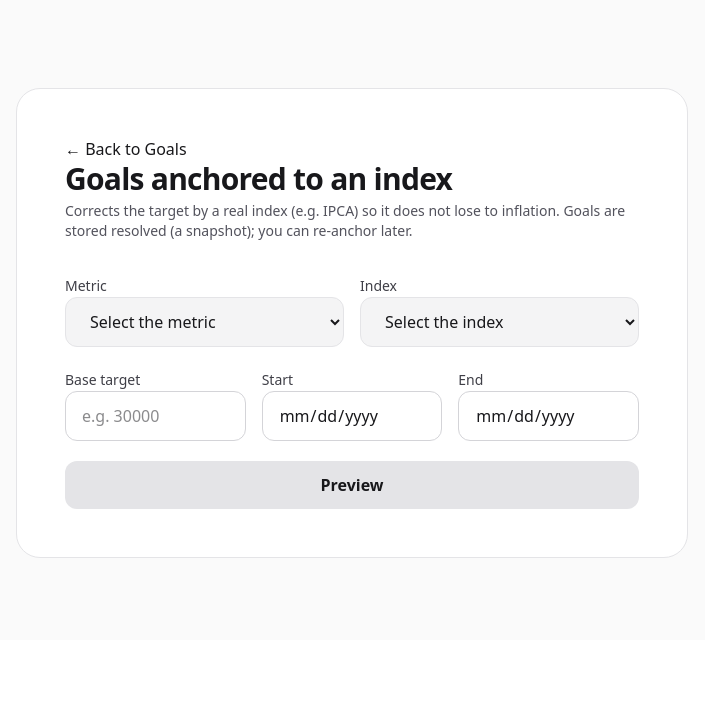
Test: ImportAnchored › confirma a importação ancorada
Select "Receita (daily)" in the dropdown named "metric_id" below "Metric": (204, 322) [65,297,344,347]
Select "IPCA (inflação)" in the 2nd dropdown named "index_code": (500, 322) [360,297,639,347]
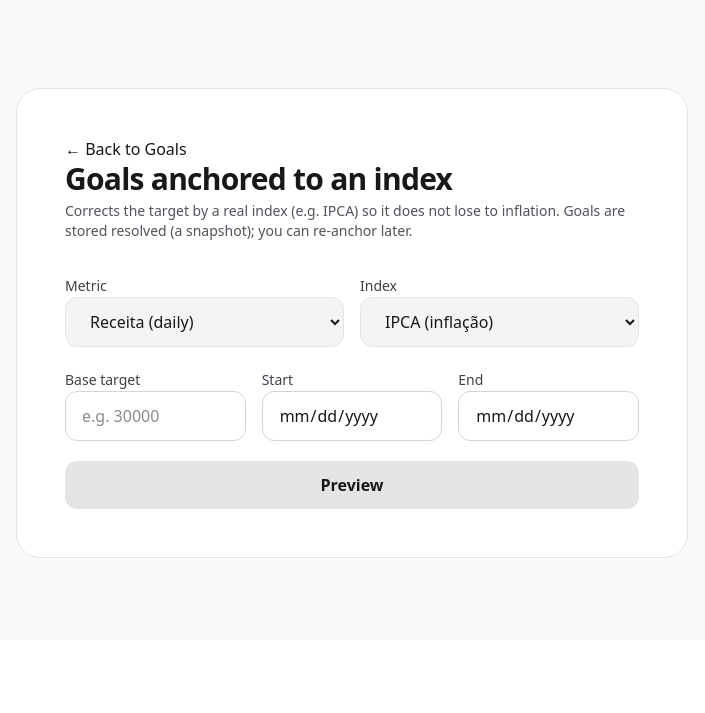
In the number field named "alvo_base": (155, 416) [65,391,246,441], type "100"
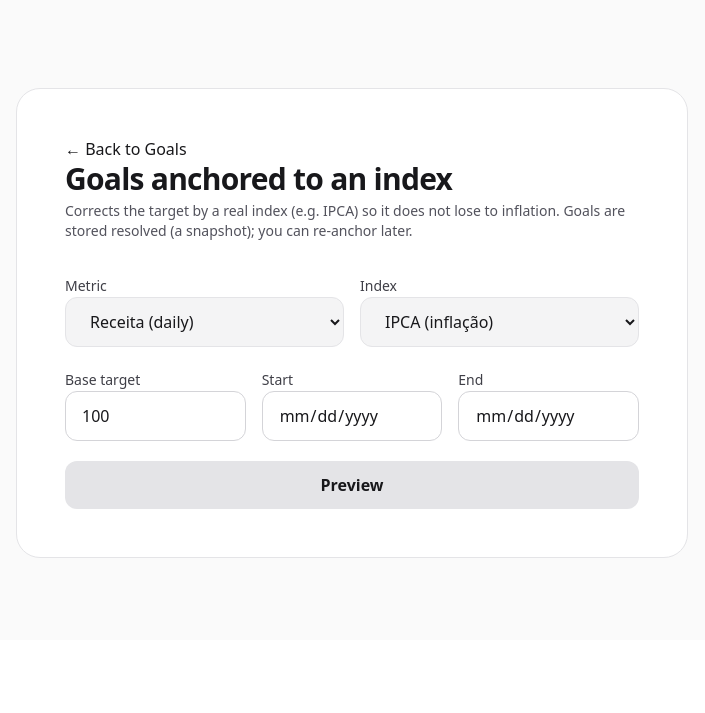
In the date field named "inicio" below "Start": (352, 416) [262,391,442,441], type "2026-01-01"
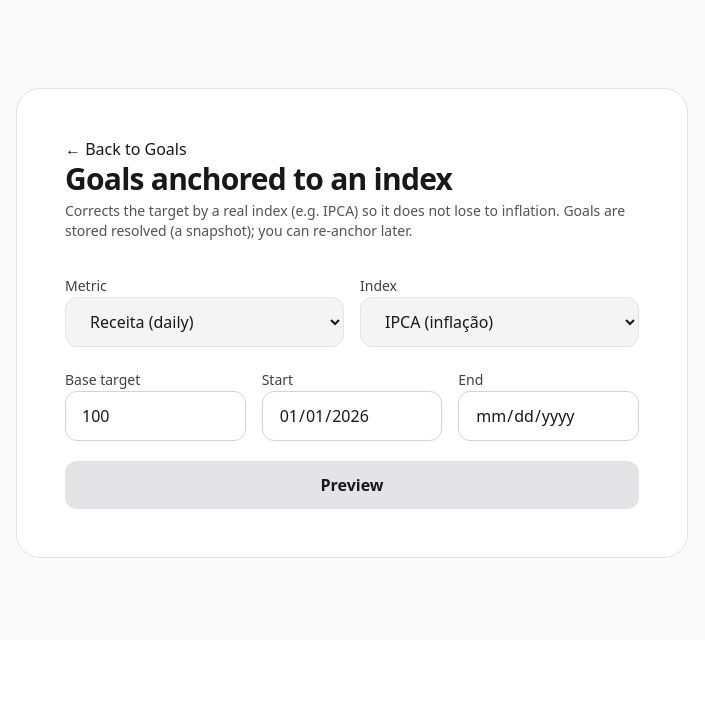
In the date field named "fim" below "End": (549, 416) [458,391,639,441], type "2026-01-02"
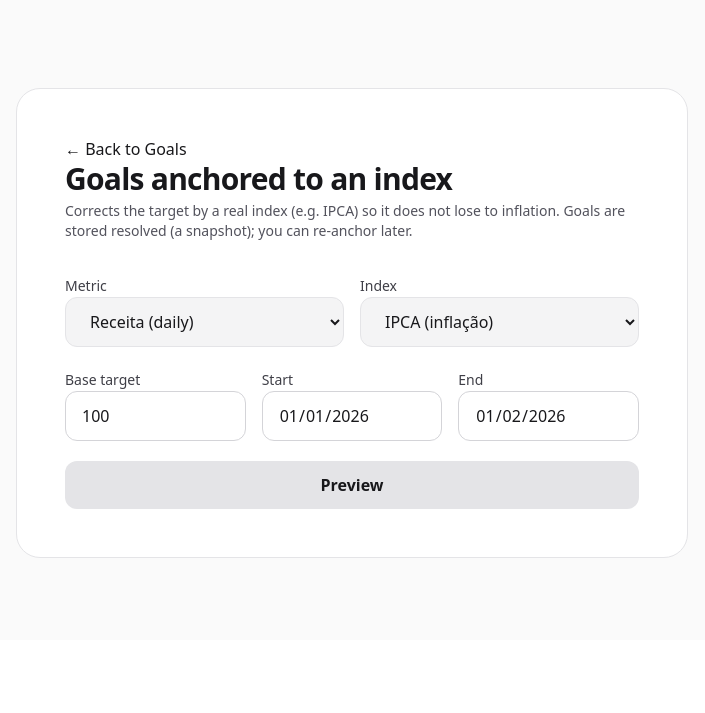
Click the button "Preview": (352, 485) [65,461,639,509]
(page scrolled)
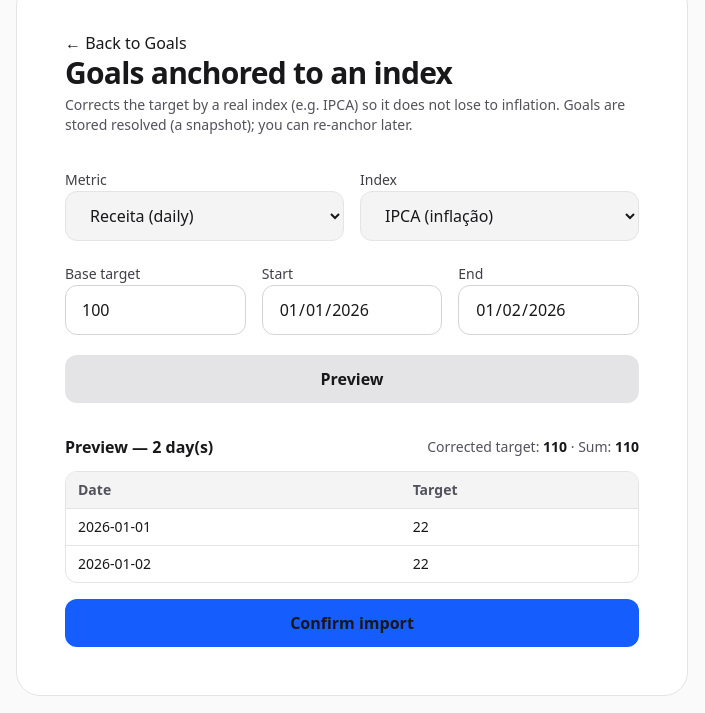
Click the button "Confirm import": (352, 623) [65,599,639,647]
(page scrolled)
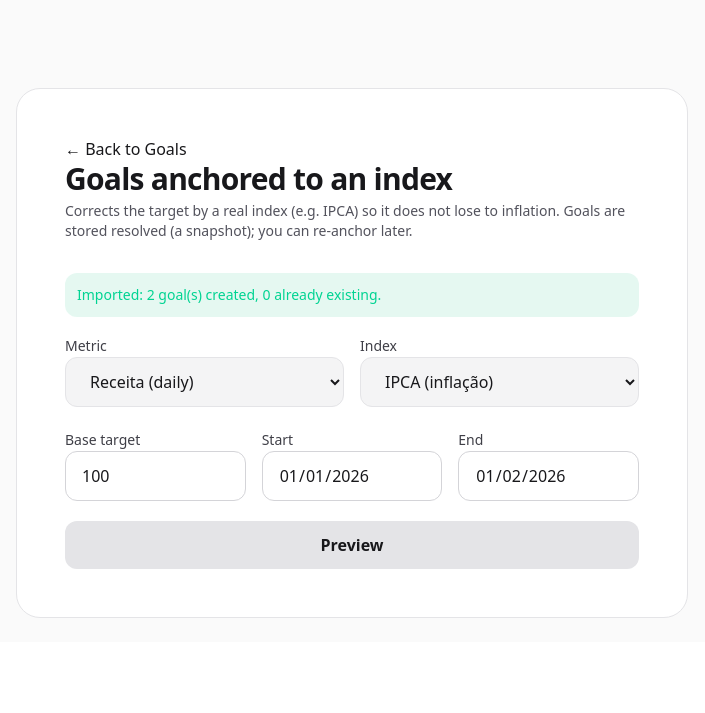
Check: the text "Imported: 2 goal(s) created, 0 already existing." is shown, box [65,273,639,317]
